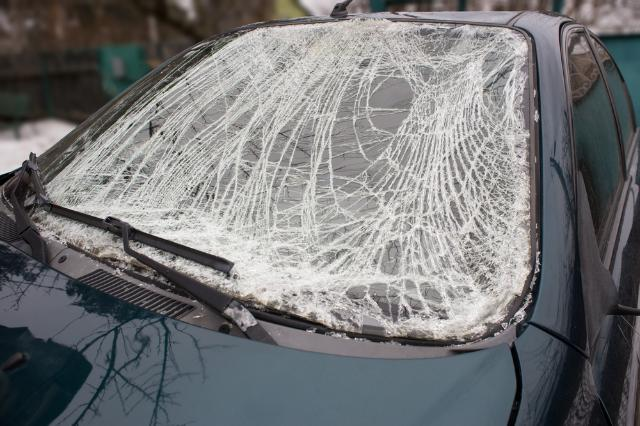glass shatter: (25, 17, 530, 341)
